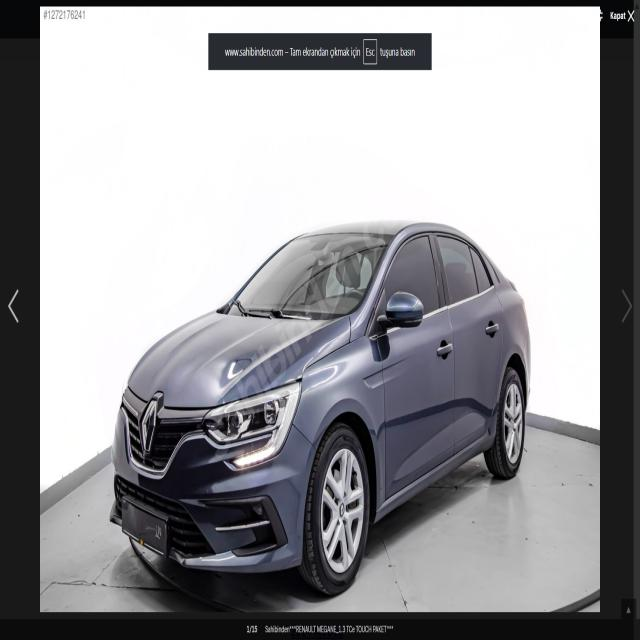renault: (134, 386, 166, 464)
